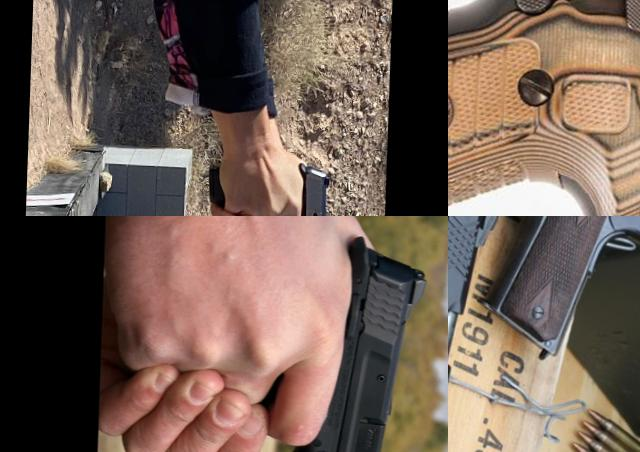handgun: (215, 226, 432, 452), (448, 0, 640, 216), (448, 216, 589, 452), (448, 216, 640, 381), (199, 158, 335, 216)
